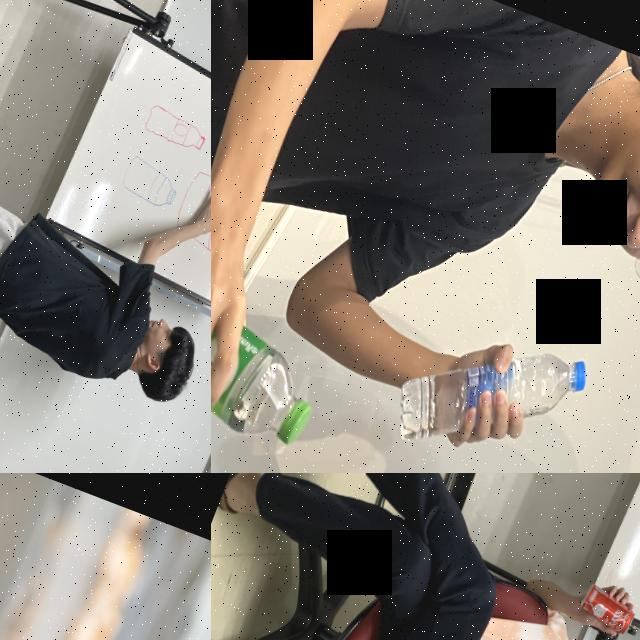bottle: (374, 297, 601, 473), (211, 223, 353, 454)
can: (572, 579, 640, 638)
